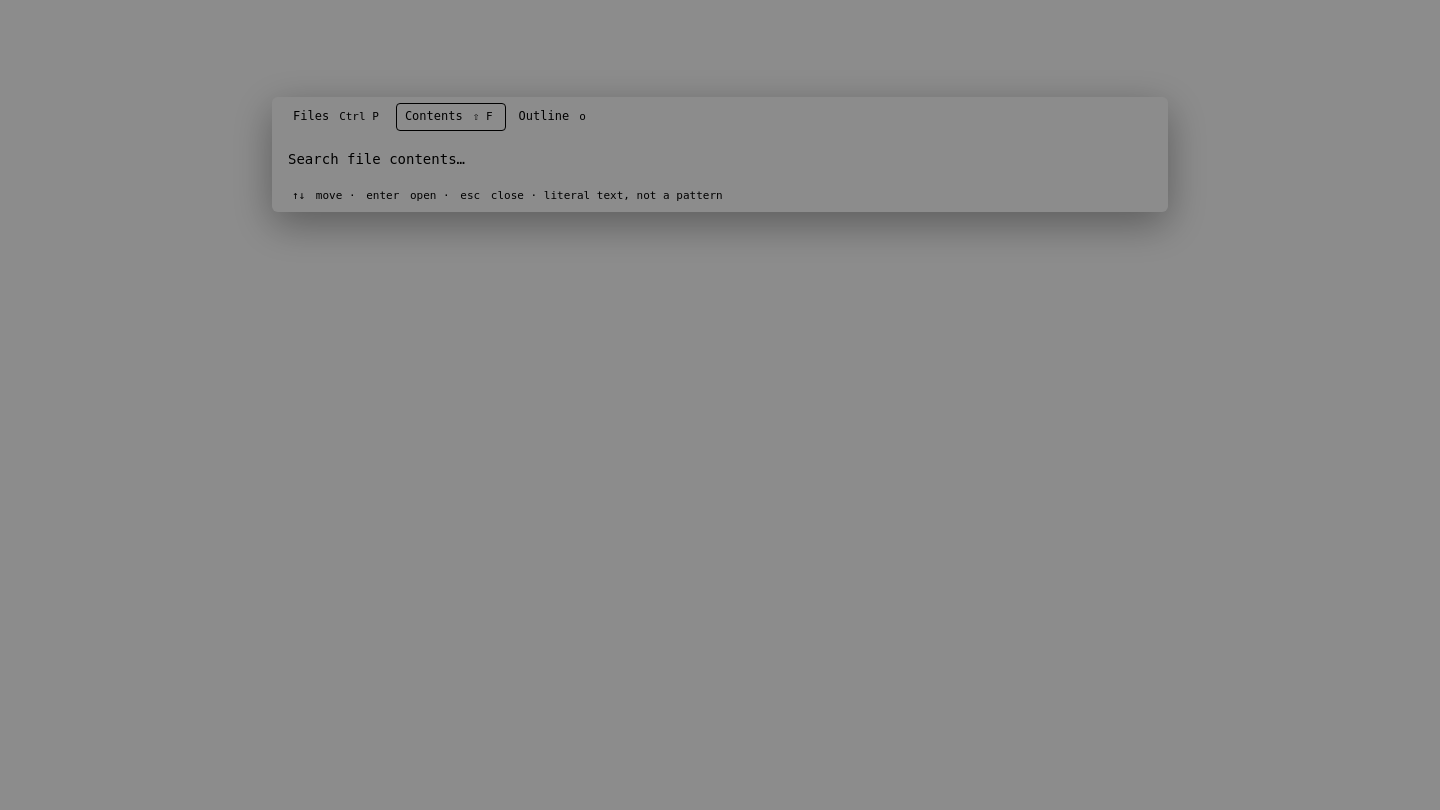
it: querying › an empty result says so rather than looking like a failure
In the dropdown with test id "search-input": (720, 158) [272,137,1168,180], type "needle"
Wait 500 ms
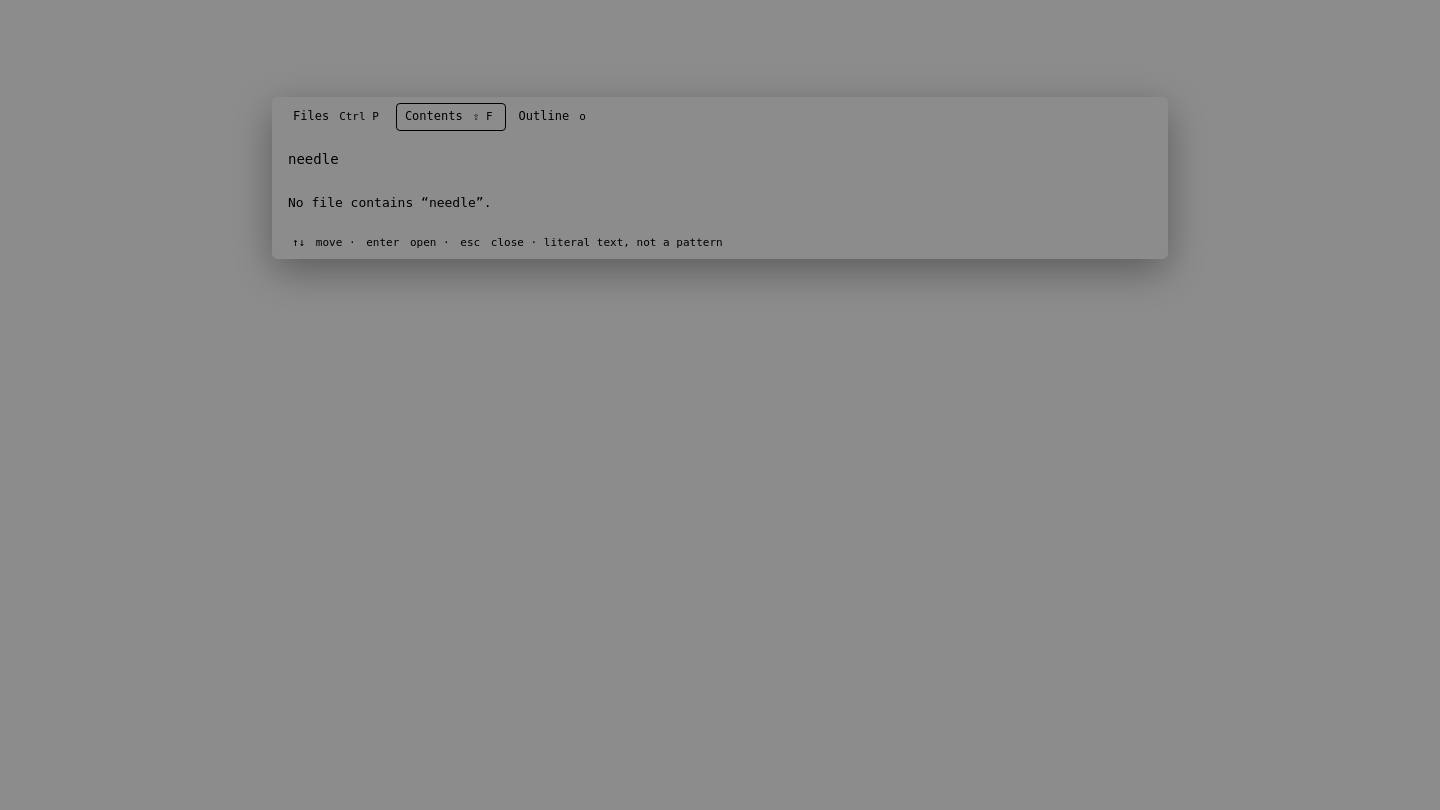
expect the text "No file contains “needle”." is shown: met, box [288,195,492,210]
